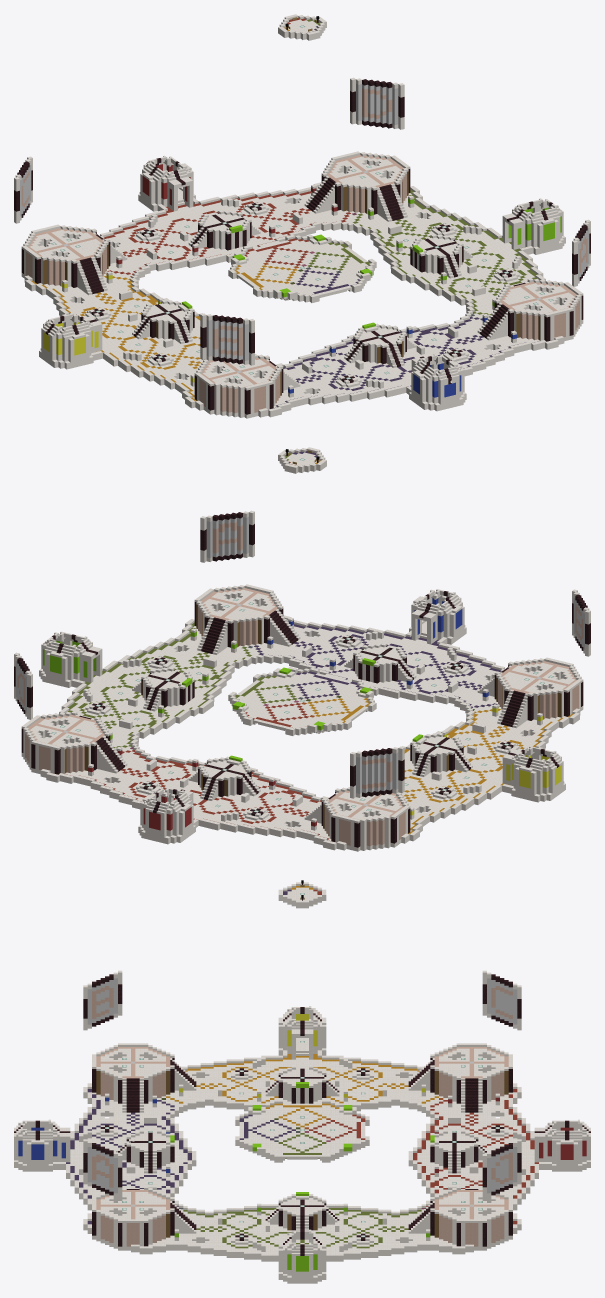
Rendered from minecraft.obj.
3 renders of one model, top to bottom at view 1: azimuth 30°, elevation 25°; view 2: azimuth 150°, elevation 25°; view 3: azimuth 270°, elevation 25°, orthographic. The views are drawn at different scales.
Bounding box in the file's own units: 133 × 70.02 × 133.
